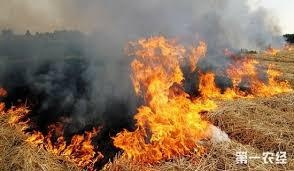fire: (113, 31, 219, 161)
